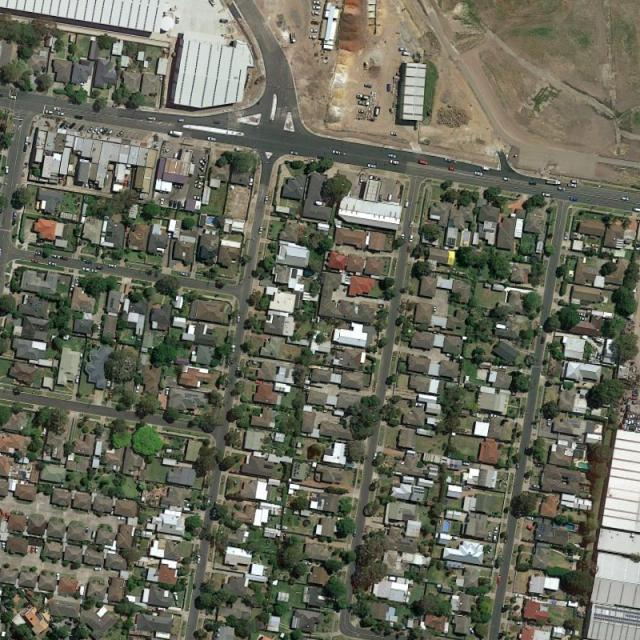vehicle: (168, 130, 183, 137), (290, 32, 297, 43), (116, 129, 125, 137), (199, 158, 207, 167), (135, 382, 141, 393), (418, 159, 429, 165), (541, 191, 550, 198), (405, 198, 411, 208), (63, 122, 70, 130), (106, 129, 114, 136), (387, 153, 398, 158), (567, 183, 578, 188), (538, 324, 543, 335), (8, 94, 17, 100), (390, 159, 399, 165), (311, 11, 321, 16), (173, 199, 178, 209), (58, 176, 63, 186), (89, 179, 94, 189), (126, 178, 131, 188), (373, 451, 378, 461), (332, 150, 342, 155), (367, 163, 377, 168), (497, 575, 502, 585), (490, 413, 500, 418), (97, 127, 104, 134), (102, 127, 109, 134), (194, 194, 201, 201), (526, 525, 533, 532), (195, 180, 203, 186), (174, 183, 182, 189), (82, 266, 90, 272), (409, 219, 415, 227), (546, 418, 552, 426), (309, 34, 318, 39), (310, 28, 319, 33), (398, 47, 407, 52), (402, 50, 411, 55), (25, 136, 30, 145), (48, 261, 57, 266), (60, 255, 69, 260), (91, 269, 100, 274), (165, 387, 170, 396), (118, 516, 127, 521), (212, 508, 217, 517), (196, 554, 201, 563), (173, 591, 178, 600), (258, 226, 263, 235), (474, 171, 483, 176), (557, 186, 566, 191), (621, 196, 630, 201), (88, 126, 94, 133), (93, 126, 99, 133), (199, 165, 205, 172), (163, 148, 170, 154), (390, 131, 398, 136), (44, 110, 54, 114), (147, 117, 157, 121), (207, 137, 217, 141), (5, 166, 10, 174), (23, 145, 28, 153), (12, 210, 17, 218), (194, 183, 202, 188), (160, 197, 165, 205), (177, 202, 182, 210), (180, 271, 188, 276), (97, 324, 102, 332), (236, 366, 241, 374), (249, 177, 254, 185), (502, 176, 510, 181), (528, 181, 536, 186), (409, 234, 414, 242), (313, 6, 322, 10), (74, 115, 83, 119), (290, 150, 299, 154), (202, 157, 208, 163), (50, 254, 59, 258), (230, 356, 234, 365), (570, 179, 579, 183), (231, 345, 236, 352), (516, 463, 521, 470), (633, 207, 640, 212), (54, 107, 62, 111), (57, 112, 65, 116), (169, 199, 173, 207), (70, 282, 74, 290), (108, 263, 116, 267), (93, 566, 101, 570), (264, 195, 268, 203), (401, 234, 405, 242), (494, 526, 498, 534), (526, 517, 534, 521), (178, 118, 185, 122), (35, 251, 42, 255), (31, 258, 38, 262), (237, 315, 241, 322), (353, 529, 357, 536), (450, 166, 457, 170), (313, 1, 322, 4), (488, 531, 491, 540), (123, 178, 126, 186), (96, 266, 102, 270), (494, 535, 498, 541), (182, 203, 185, 210), (445, 158, 450, 162)
